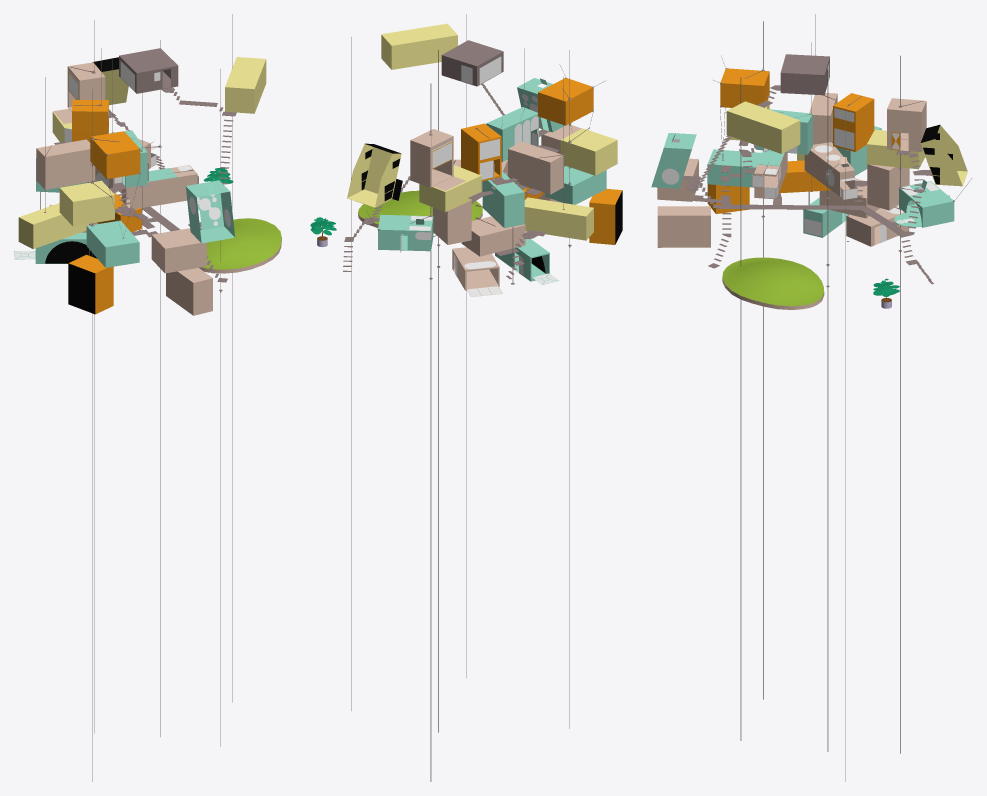
File: Neighborhood-1.glb
3 views of the same model, side by side, from view 1: azimuth 30°, elevation 25°; view 2: azimuth 150°, elevation 25°; view 3: azimuth 270°, elevation 25° (orthographic). The views are drawn at different scales.
Visible parts, largest first — view 1: Garden, Cables, Dwelling.010, Dwelling.021, Dwelling, Dwelling.024, Dwelling.012, Dwelling.009, Dwelling.014, Dwelling.004, Dwelling.013, Stairs (+10 smaller); view 2: Cables, Dwelling.022, Dwelling.014, Dwelling.019, Dwelling.020, Dwelling.021, Dwelling.024, Dwelling.012, Dwelling.013, Dwelling.018, Dwelling.023, Dwelling.011 (+11 smaller); view 3: Cables, Garden, Stairs, Dwelling.014, Dwelling.015, Dwelling.023, Dwelling.018, Dwelling.022, Dwelling.019, Dwelling.008, Dwelling.024, Dwelling.013 (+13 smaller).
Boxes of the visible parts, x1,y1,x2,y2 form: Garden: [199, 218, 281, 273]; Cables: [70, 14, 232, 781]; Dwelling.010: [185, 180, 234, 243]; Dwelling.021: [36, 139, 95, 189]; Dwelling: [68, 254, 113, 314]; Dwelling.024: [119, 48, 178, 93]; Dwelling.012: [59, 180, 114, 226]; Dwelling.009: [151, 228, 206, 273]; Dwelling.014: [225, 57, 266, 113]; Dwelling.004: [86, 220, 139, 267]; Dwelling.013: [90, 131, 140, 178]; Stairs: [54, 87, 236, 282]; Cables: [351, 14, 588, 781]; Dwelling.022: [347, 143, 402, 207]; Dwelling.014: [381, 23, 457, 69]; Dwelling.019: [410, 129, 465, 190]; Dwelling.020: [524, 197, 593, 240]; Dwelling.021: [508, 141, 563, 194]; Dwelling.024: [441, 40, 503, 86]; Dwelling.012: [560, 128, 617, 175]; Dwelling.013: [538, 78, 593, 125]; Dwelling.018: [461, 123, 501, 181]; Dwelling.023: [378, 214, 433, 252]; Dwelling.011: [452, 247, 502, 296]; Cables: [724, 21, 925, 781]; Garden: [722, 257, 824, 309]; Stairs: [682, 85, 933, 284]; Dwelling.014: [726, 101, 800, 153]; Dwelling.015: [657, 206, 710, 247]; Dwelling.023: [894, 179, 954, 227]; Dwelling.018: [833, 93, 874, 151]; Dwelling.022: [920, 124, 967, 186]; Dwelling.019: [887, 98, 926, 151]; Dwelling.008: [804, 142, 857, 199]; Dwelling.024: [780, 54, 829, 95]; Dwelling.013: [720, 68, 769, 107].
Size of what is drawn, in the model's own units: 31.33 by 86.89 by 36.22.
